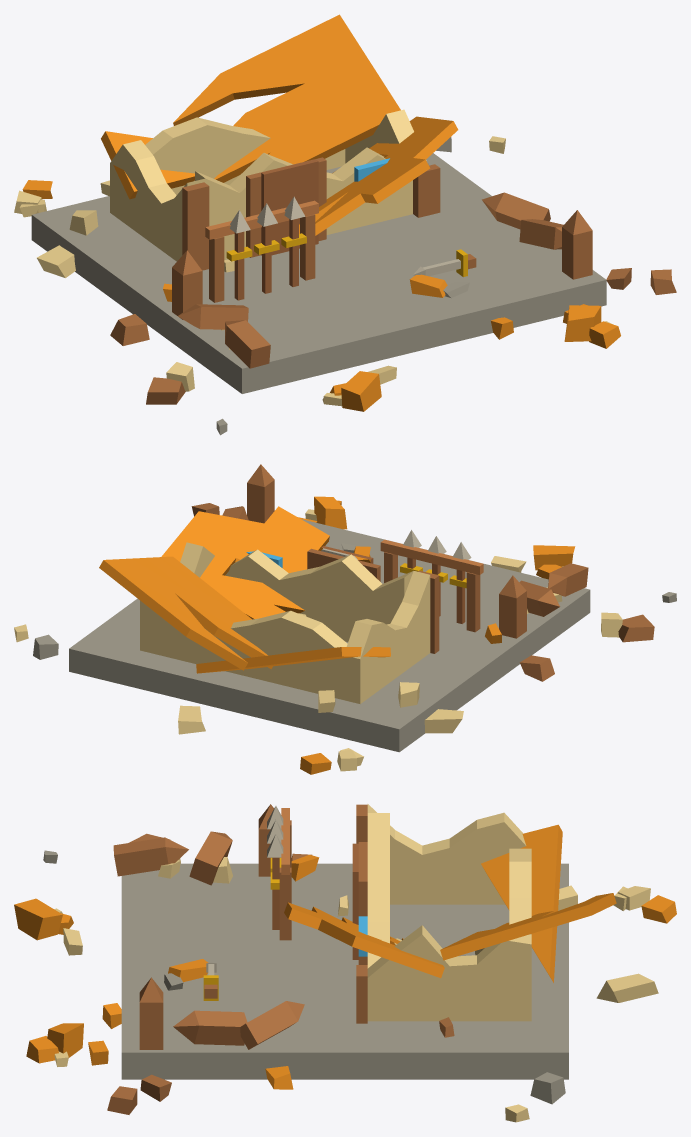
Rendered from barracks_t1_v1_dmg2.glb.
3 views of the same model, one above another, from view 1: azimuth 30°, elevation 25°; view 2: azimuth 150°, elevation 25°; view 3: azimuth 270°, elevation 25° (orthographic). The views are drawn at different scales.
Visible parts, largest first — view 1: barracks_t1_v1_dmg2; view 2: barracks_t1_v1_dmg2; view 3: barracks_t1_v1_dmg2.
Boxes of the visible parts, <box> form: barracks_t1_v1_dmg2: <box>14,14,676,435</box>; barracks_t1_v1_dmg2: <box>14,464,676,774</box>; barracks_t1_v1_dmg2: <box>14,804,676,1122</box>.
Size of the model in its own units: 0.8767 by 0.2227 by 0.8892.
Materials: 1 (1 with a texture image).
